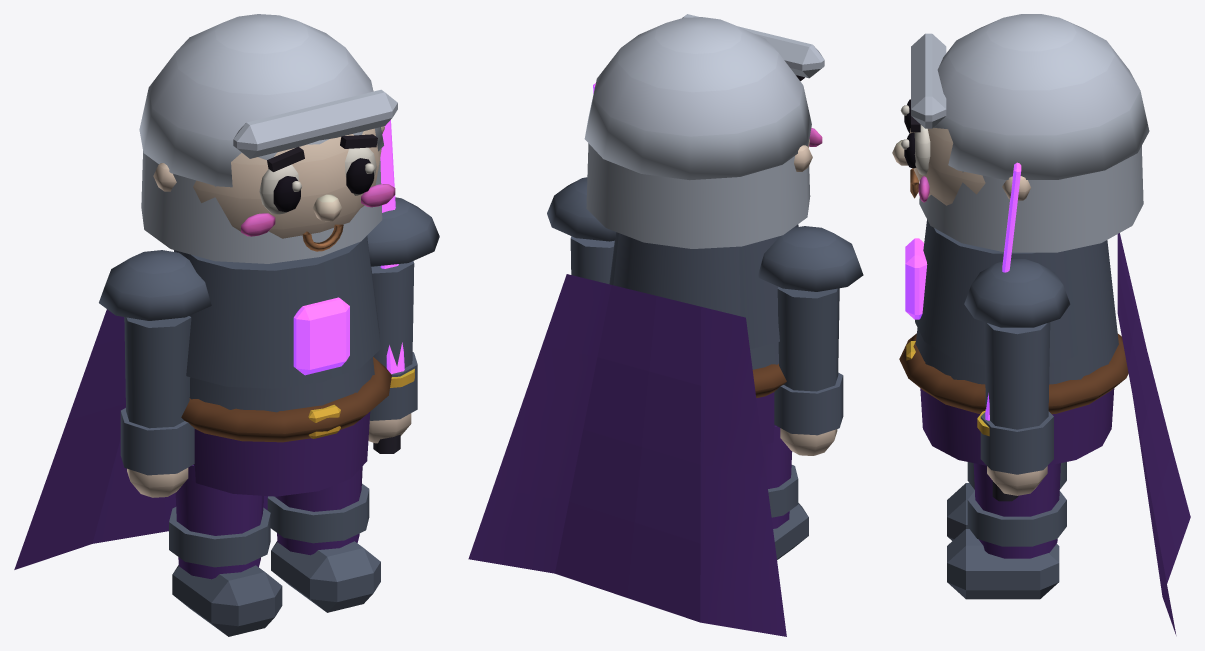
The model's file is hero_umbra.glb.
3 renders of one model, left to right at view 1: azimuth 30°, elevation 25°; view 2: azimuth 150°, elevation 25°; view 3: azimuth 270°, elevation 25°, orthographic. The views are drawn at different scales.
Visible parts, largest first — view 1: body_t0_palette, arml_t0_palette, legl_t0_palette, legr_t0_palette, armr_t0_palette, body_t0_shadow_glow, armr_t0_shadow_glow; view 2: body_t0_palette, arml_t0_palette, armr_t0_palette, legl_t0_palette; view 3: body_t0_palette, armr_t0_palette, legr_t0_palette, body_t0_shadow_glow, legl_t0_palette, armr_t0_shadow_glow.
Boxes of the visible parts, box(x1,y1,x2,y2) form: body_t0_palette: box(14, 14, 397, 569); arml_t0_palette: box(99, 250, 211, 497); legl_t0_palette: box(169, 465, 282, 636); legr_t0_palette: box(267, 466, 380, 612); armr_t0_palette: box(367, 197, 439, 453); body_t0_shadow_glow: box(293, 297, 349, 375); armr_t0_shadow_glow: box(380, 120, 404, 374); body_t0_palette: box(468, 14, 824, 636); arml_t0_palette: box(758, 226, 863, 455); armr_t0_palette: box(547, 177, 616, 283); legl_t0_palette: box(762, 426, 808, 559); body_t0_palette: box(892, 14, 1190, 635); armr_t0_palette: box(964, 259, 1070, 501); legr_t0_palette: box(947, 463, 1066, 599); body_t0_shadow_glow: box(905, 238, 927, 319); legl_t0_palette: box(947, 462, 1066, 540); armr_t0_shadow_glow: box(985, 162, 1021, 420).
Size of the model in its own units: 0.32 by 0.508 by 0.253.
